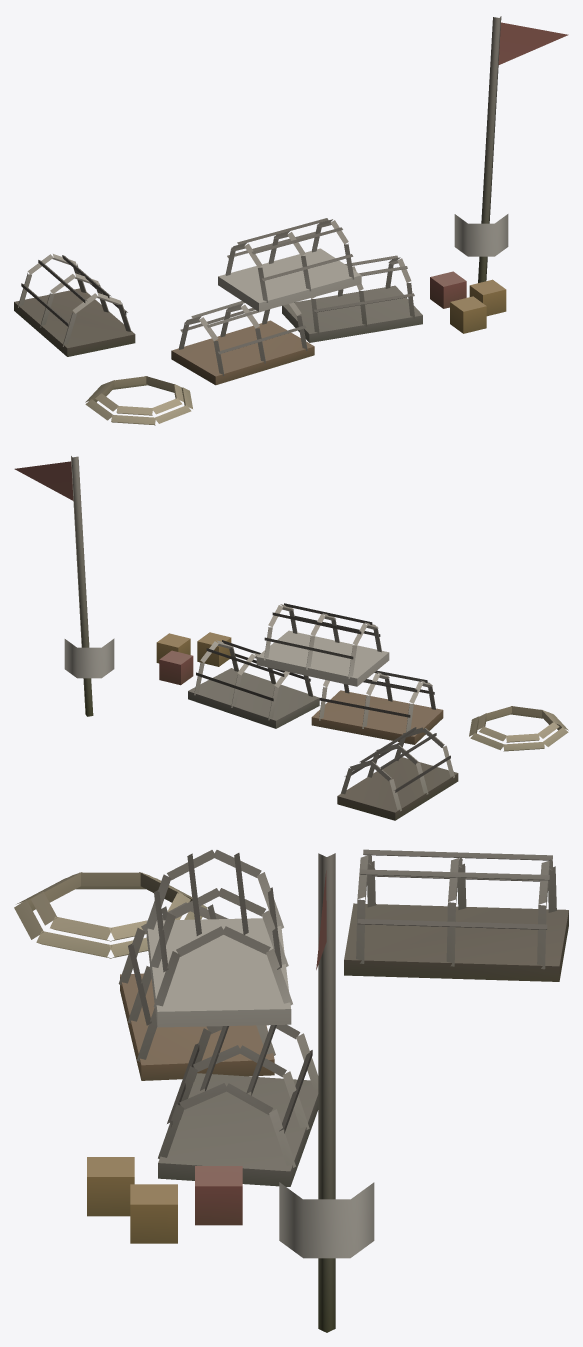
File: wreck_cove_lobster_pots.glb
3 views of the same model, one above another, from view 1: azimuth 30°, elevation 25°; view 2: azimuth 150°, elevation 25°; view 3: azimuth 270°, elevation 25° (orthographic). The views are drawn at different scales.
Parts seen in each view (by area): view 1: body; view 2: body; view 3: body.
Boxes of the visible parts, x1,y1,x2,y2 form: body: (14,16,568,425); body: (14,456,568,820); body: (14,849,568,1332).
Bounding box in the file's own units: 5.02 × 2.5 × 2.57.
